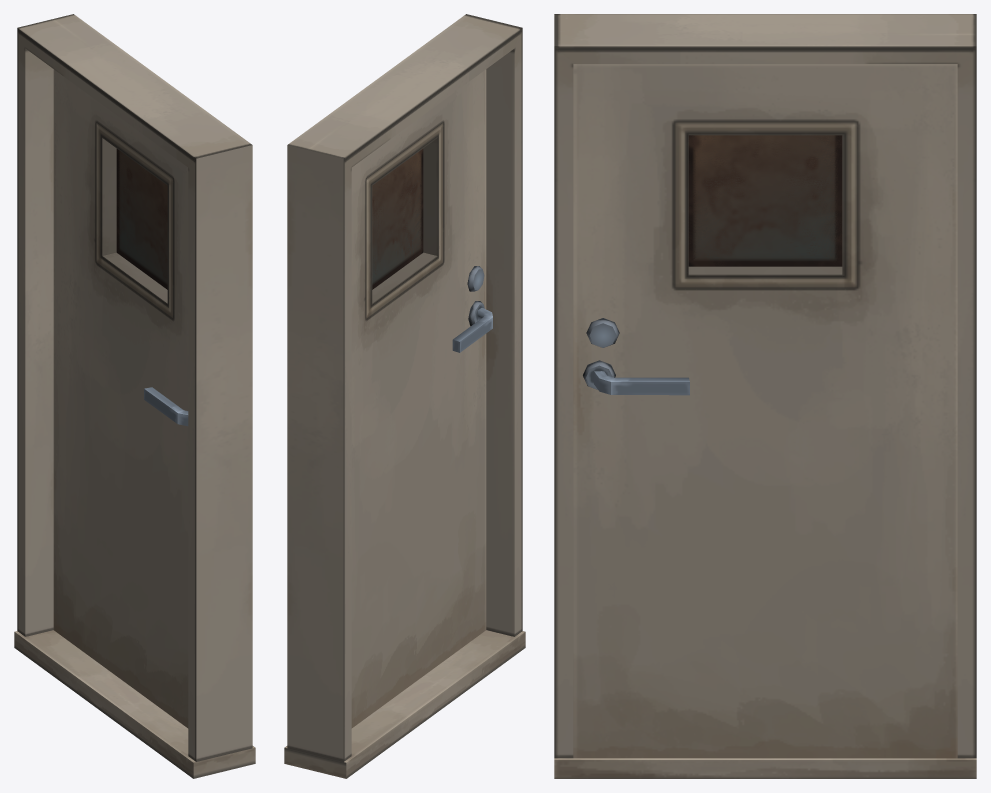
The model's file is door19.FBX.
3 renders of one model, left to right at view 1: azimuth 30°, elevation 25°; view 2: azimuth 150°, elevation 25°; view 3: azimuth 270°, elevation 25°, orthographic. The views are drawn at different scales.
Parts seen in each view (by area): view 1: door19_frame, door19; view 2: door19_frame, door19; view 3: door19, door19_frame.
Boxes of the visible parts, x1=… form: door19_frame: x1=14, y1=14, x2=255, y2=778; door19: x1=53, y1=69, x2=188, y2=728; door19_frame: x1=284, y1=14, x2=525, y2=778; door19: x1=351, y1=69, x2=492, y2=728; door19: x1=573, y1=64, x2=957, y2=758; door19_frame: x1=554, y1=14, x2=976, y2=778.
Size of the model in its own units: 29.13 by 210 by 110.
